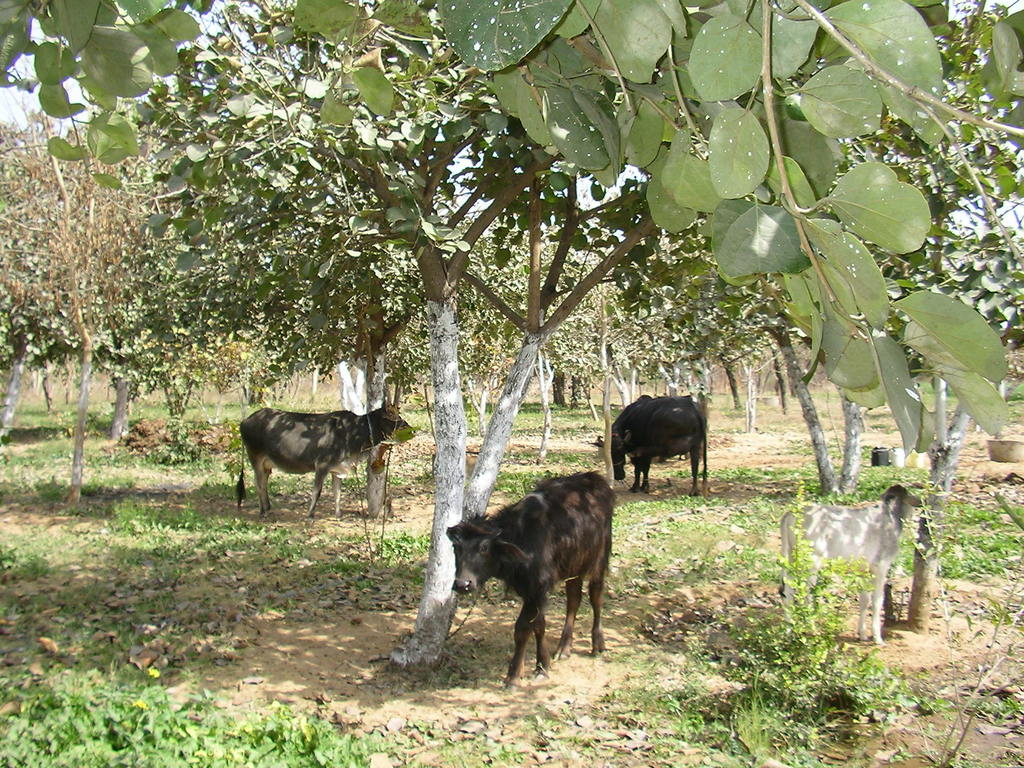Tree: (0, 0, 1023, 677)
